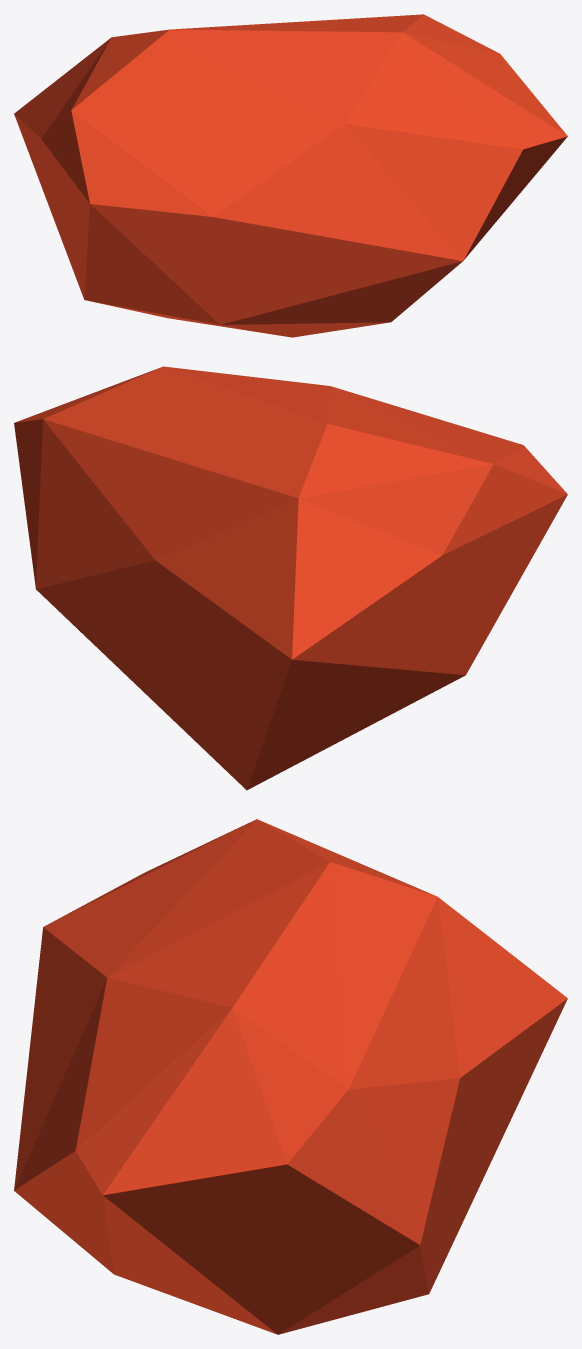
The model's file is Natures2p4-orange.fbx.
3 renders of one model, top to bottom at view 1: azimuth 30°, elevation 25°; view 2: azimuth 150°, elevation 25°; view 3: azimuth 270°, elevation 25°, orthographic. The views are drawn at different scales.
Parts seen in each view (by area): view 1: p4-orange; view 2: p4-orange; view 3: p4-orange.
Boxes of the visible parts, x1=… form: p4-orange: x1=14, y1=14, x2=567, y2=337; p4-orange: x1=14, y1=366, x2=567, y2=790; p4-orange: x1=14, y1=819, x2=567, y2=1334.
Bounding box in the file's own units: 318 × 212 × 260.
